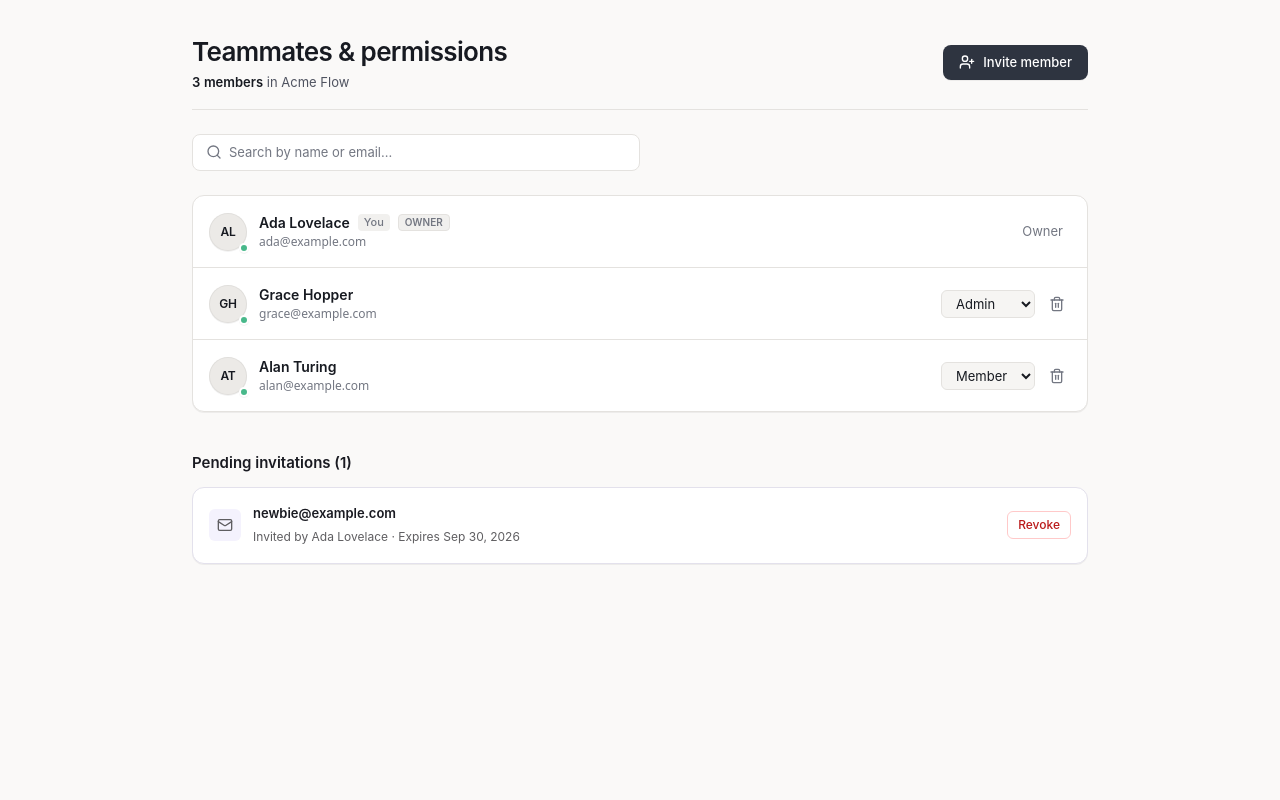
SettingsMembersView › surfaces remove member errors
Click the button named "Remove Alan Turing" at {"x": 1057, "y": 376}, box [1043,362,1071,390]
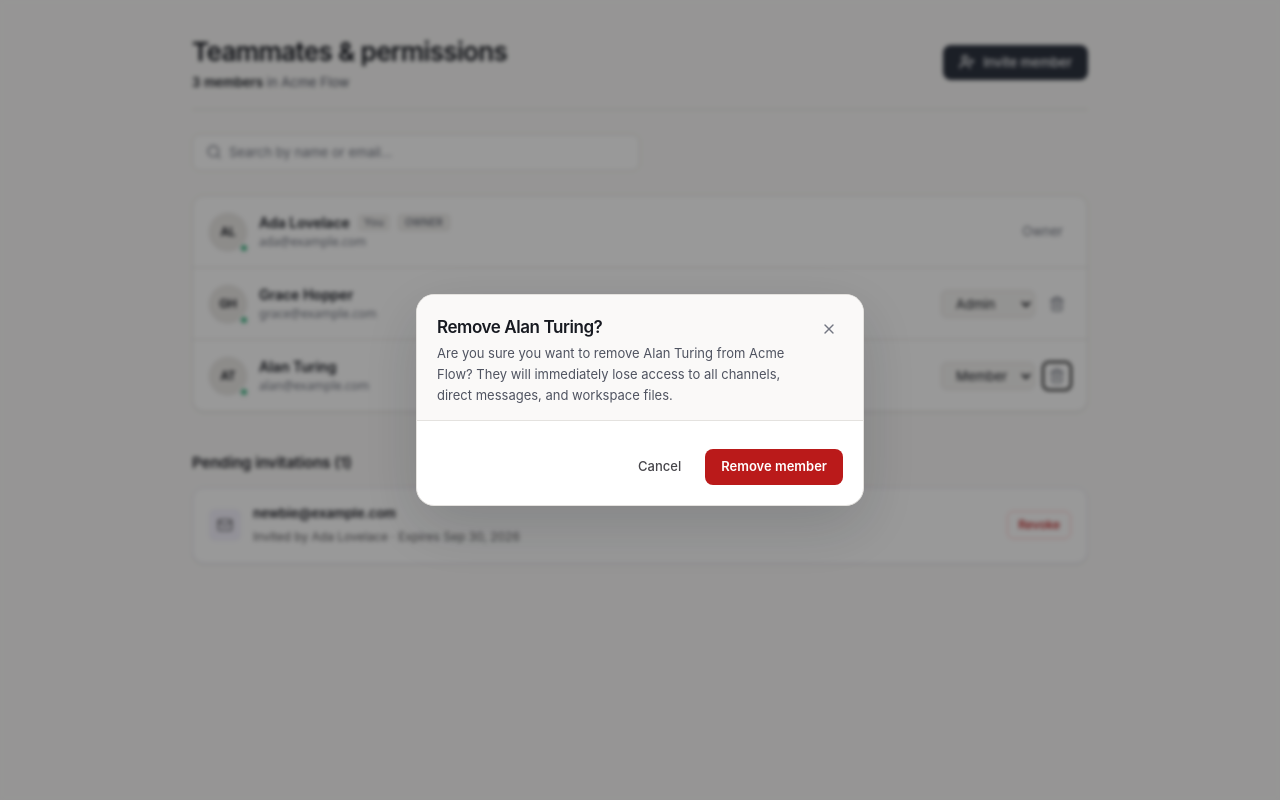
Click the button "Remove member" at {"x": 774, "y": 467}, box [705,449,843,485]
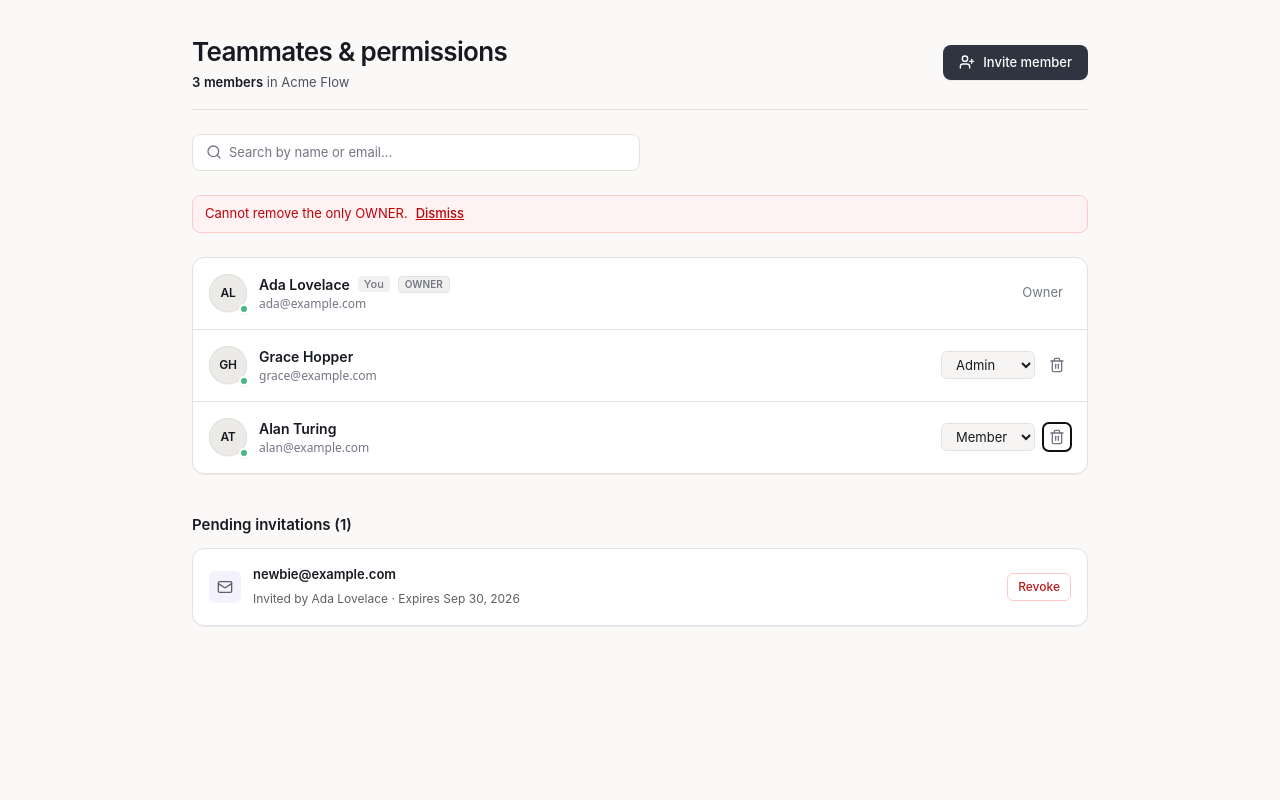
Result: the message shows "Cannot remove the only OWNER" at [205,205,408,221]
